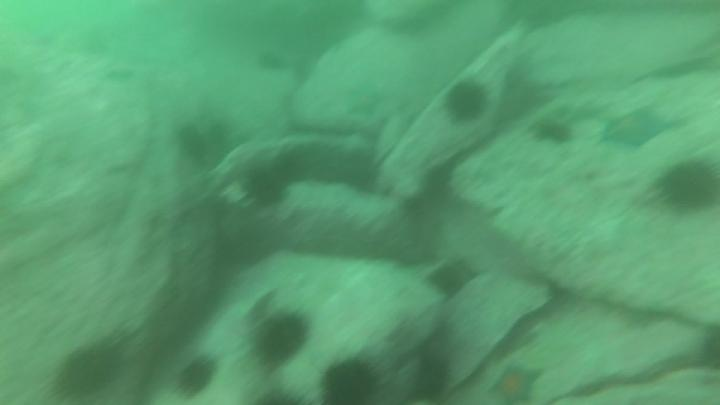echinus: (243, 304, 312, 380), (658, 157, 720, 218), (56, 348, 117, 403), (320, 356, 381, 405), (335, 147, 382, 196), (444, 79, 489, 126), (242, 168, 290, 211), (286, 145, 332, 188), (410, 358, 453, 403), (429, 257, 478, 296), (174, 357, 217, 401), (172, 121, 213, 162), (247, 387, 313, 405), (533, 118, 573, 147), (260, 51, 289, 76)
starfish: (601, 107, 672, 150), (486, 356, 548, 405)
